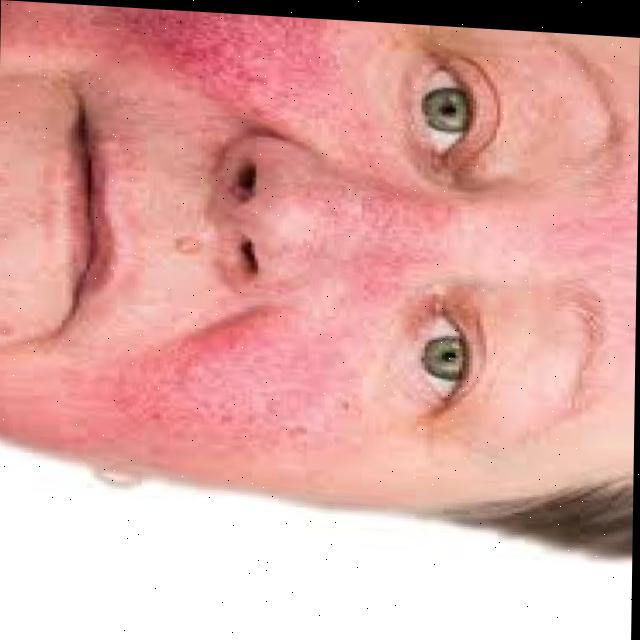Rosacea: (78, 319, 358, 489), (103, 7, 330, 118), (365, 188, 449, 271)
